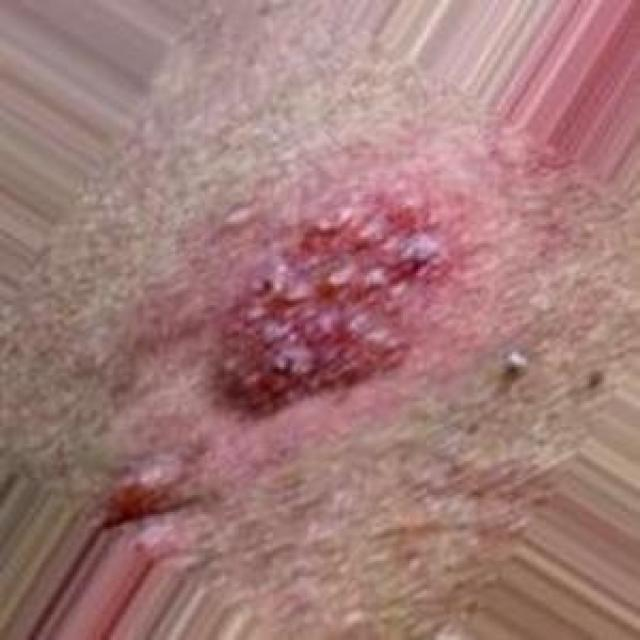Shingles: (212, 188, 442, 419)
